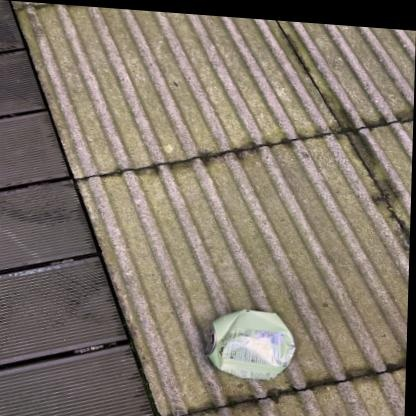trash: (208, 310, 294, 379)
